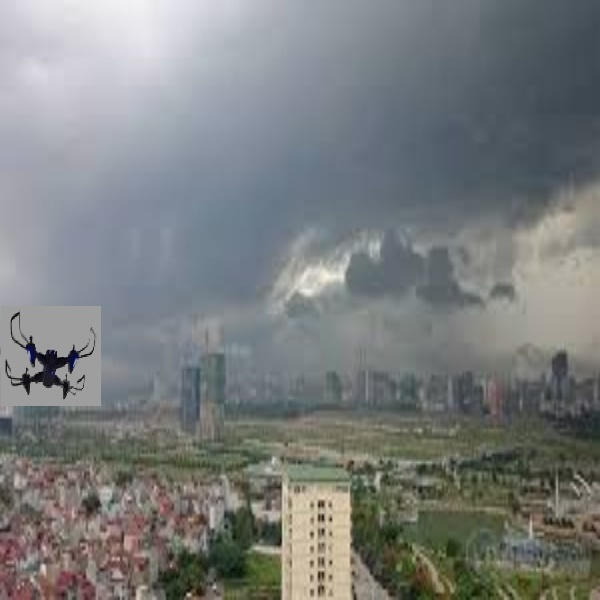drone: (5, 307, 99, 403)
